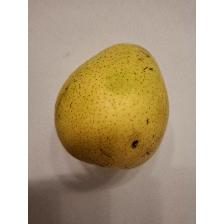Birne: (50, 38, 174, 174)
